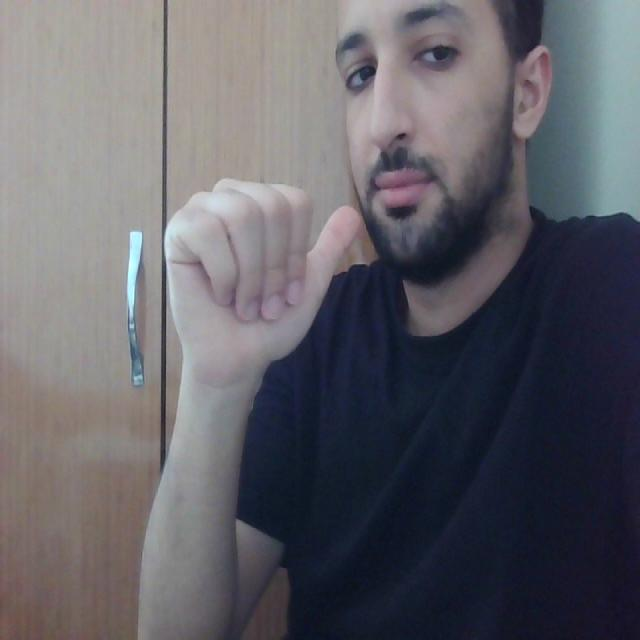icmek: (140, 135, 419, 347)
